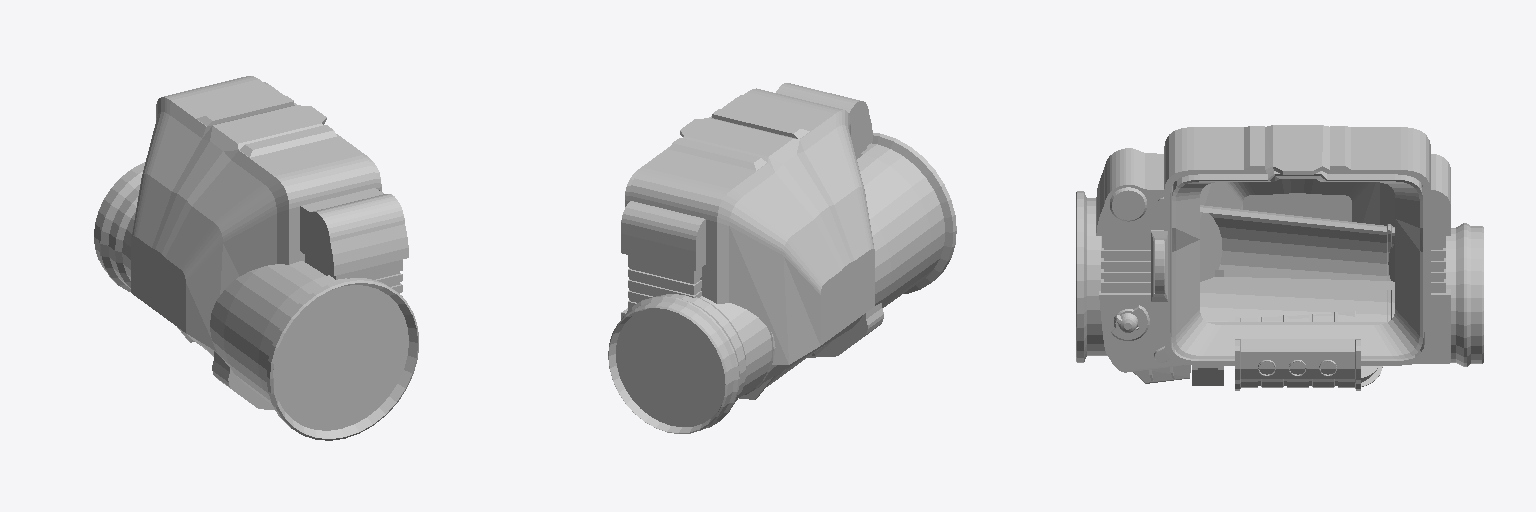
The model's file is shagboy_casing.obj.
The picture shows the model from 3 angles: view 1: azimuth 30°, elevation 25°; view 2: azimuth 150°, elevation 25°; view 3: azimuth 270°, elevation 25°; orthographic projection.
Parts seen in each view (by area): view 1: pepboy_reference; view 2: pepboy_reference; view 3: pepboy_reference.
Part boxes in pixels (x1,y1,x2,y2): pepboy_reference: (94,76,418,440); pepboy_reference: (608,83,956,433); pepboy_reference: (1076,125,1483,390).
Bounding box in the file's own units: 4.98 × 6.49 × 9.91.